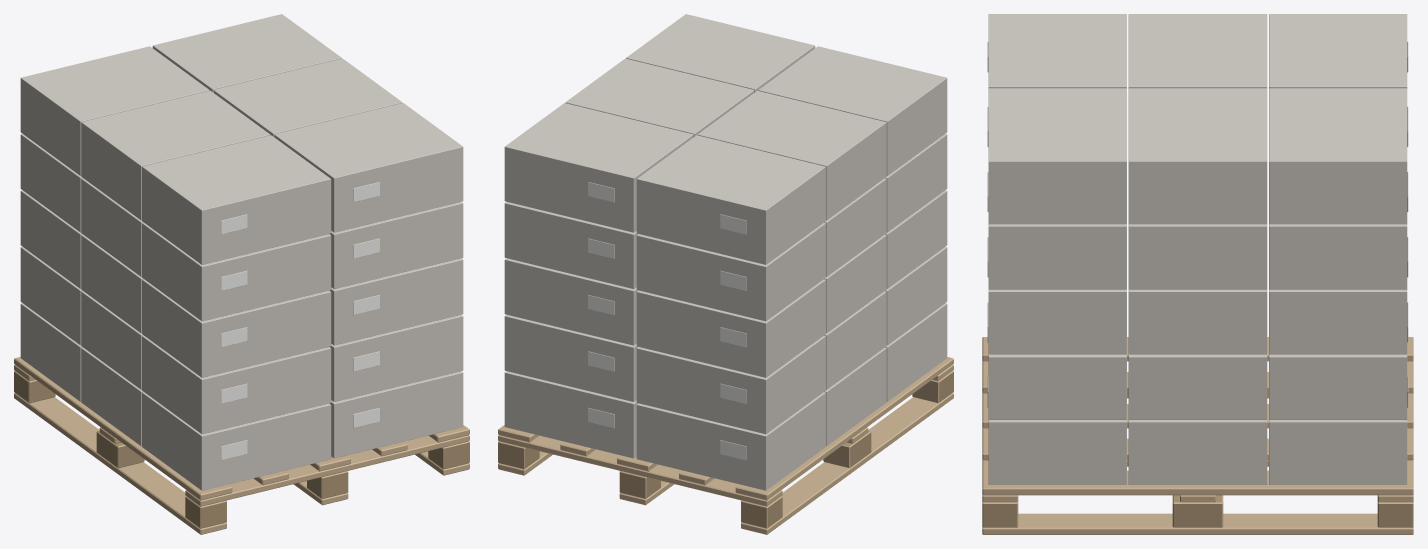
Rendered from stackercrane_pallet_v1.fbx.
3 views of the same model, side by side, from view 1: azimuth 30°, elevation 25°; view 2: azimuth 150°, elevation 25°; view 3: azimuth 270°, elevation 25° (orthographic). The views are drawn at different scales.
Parts seen in each view (by area): view 1: Load_v1, Deck_v1; view 2: Load_v1, Deck_v1; view 3: Load_v1, Deck_v1.
Boxes of the visible parts, box(x1,y1,x2,y2) form: Load_v1: box(20, 14, 463, 490); Deck_v1: box(14, 357, 469, 534); Load_v1: box(504, 14, 947, 490); Deck_v1: box(498, 357, 953, 534); Load_v1: box(987, 14, 1408, 484); Deck_v1: box(982, 337, 1413, 534).
Bounding box in the file's own units: 1 × 1.14 × 1.2.
